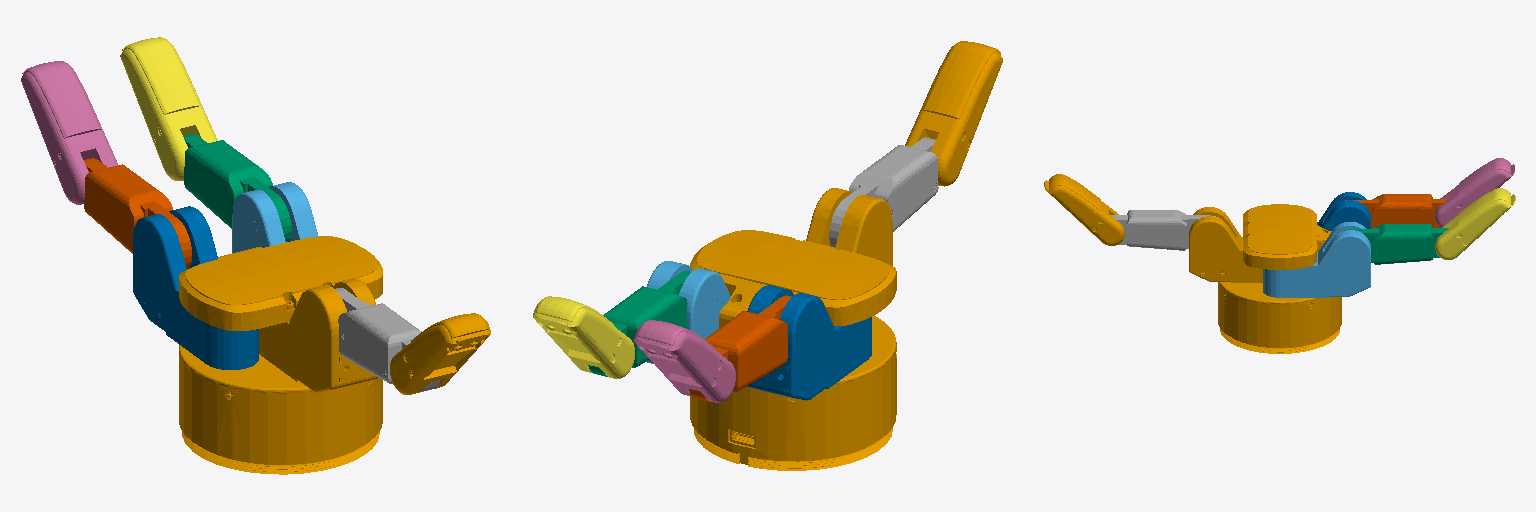
The robot description file, URDF, robot "bhand_model":
<robot name="bhand_model">
  <link name="base_link">
    <inertial>
      <origin xyz="-1.53444878605399E-05 -0.00277693660903533 0.0352882290973172" rpy="0 0 0"/>
      <mass value="0.377966381303299"/>
      <inertia ixx="0.000427326373018601" ixy="2.6443337984506E-07" ixz="-2.02908063714989E-07" iyy="0.000361316175967098" iyz="-3.0792687327603E-05" izz="0.000376798128588446"/>
    </inertial>
    <visual>
      <origin xyz="0 0 0" rpy="0 0 0"/>
      <geometry>
        <mesh filename="meshes/visual/base_link.obj"/>
      </geometry>
    </visual>
    <collision> <!-- base_cylinder -->
      <origin xyz="0 0 0" rpy="0 0 0"/>
      <geometry>
        <mesh filename="meshes/collision/base_link_cylinder.obj"/>
      </geometry>
    </collision>
    <collision> <!-- base_link -->
      <origin xyz="0 -0.011 0.054" rpy="0 0 0"/>
      <geometry>
        <box size="0.026 0.108 0.026"/>
      </geometry>
    </collision>
    <collision>
      <origin xyz="0 0 0.072" rpy="0 0 0"/>
      <geometry>
        <box size="0.076 0.046 0.014"/>
      </geometry>
    </collision>
    <collision>
      <origin xyz="0 0.032 0.068" rpy="-0.39 0 0"/>
      <geometry>
        <box size="0.026 0.02 0.01"/>
      </geometry>
    </collision>
    <collision>
      <origin xyz="0 -0.035 0.07" rpy="-1.03 0 0"/>
      <geometry>
        <box size="0.026 0.02 0.01"/>
      </geometry>
    </collision>
  </link>
  <link name="finger_1_prox_link">
    <inertial>
      <origin xyz="-0.288648917008988 9.98379746692153E-04 0.171253477569802" rpy="0 0 0"/>
      <mass value="56143.0626955765E-5"/>
      <inertia ixx="10.4484040652085E-5" ixy="-0.117861448219975E-5" ixz="-5.31613760585343E-5" iyy="33.9552353012776E-5" iyz="0.0780041192837706E-5" izz="29.3669090518615E-5"/>
    </inertial>
    <visual>
      <origin xyz="0 0 0" rpy="0 0 0"/>
      <geometry>
        <mesh filename="meshes/visual/prox_link.obj"/>
      </geometry>
    </visual>
    <collision>   <!-- finger1_prox_link -->
      <origin xyz="0 0 0" rpy="0 0 0"/>
      <geometry>
        <mesh filename="meshes/collision/prox_link_cylinder.obj"/>
      </geometry>
    </collision>
    <collision>
      <origin xyz="-0.029 0 0.012" rpy="0 0 0"/>
      <geometry>
        <box size="0.07 0.024 0.026"/>
      </geometry>
    </collision>
    <collision>
      <origin xyz="-0.036 0 0.03" rpy="0 1.029 0"/>
      <geometry>
        <box size="0.02 0.026 0.01"/>
      </geometry>
    </collision>
  </link>
  <joint name="finger_1_prox_joint" type="revolute">
    <origin xyz="0.025 0 0.0415" rpy="0 2.7051E-17 -1.5708"/>
    <parent link="base_link"/>
    <child link="finger_1_prox_link"/>
    <axis xyz="0 0 1"/>
    <limit lower="-3.14" upper="0" effort="0" velocity="10"/>
  </joint>
  <link name="finger_1_med_liink">
    <inertial>
      <origin xyz="-0.030918176135544 0.0019693024932544 0.000743369842666108" rpy="0 0 0"/>
      <mass value="31321.1214212939E-5"/>
      <inertia ixx="2.18512832127284E-5" ixy="-0.844484268309696E-5" ixz="0.0135401272401385E-5" iyy="17.3596441998536E-5" iyz="-0.001126692167519E-5" izz="17.7656644395659E-5"/>
    </inertial>
    <visual>
      <origin xyz="0 0 0" rpy="0 0 0"/>
      <geometry>
        <mesh filename="meshes/visual/med_link.obj"/>
      </geometry>
    </visual>
    <collision> <!-- finger1_med_link -->
      <origin xyz="-0.04 0.003 0.001" rpy="0 0 0"/>
      <geometry>
        <box size="0.036 0.024 0.018"/>
      </geometry>
    </collision>
    <collision>
      <origin xyz="-0.006 0.001 0.001" rpy="0 0 0"/>
      <geometry>
        <box size="0.032 0.022 0.01"/>
      </geometry>
    </collision>
    <collision>
      <origin xyz="-0.068 0.003 0.001" rpy="0 0 0"/>
      <geometry>
        <box size="0.02 0.022 0.01"/>
      </geometry>
    </collision>
    <collision>
      <origin xyz="-0.019 0.001 0.001" rpy="0 0 0"/>
      <geometry>
        <box size="0.008 0.022 0.018"/>
      </geometry>
    </collision>
  </link>
  <joint name="finger_1_med_joint" type="revolute">
    <origin xyz="-0.05 0 0.0339" rpy="1.5708 -8.8281E-17 0"/>
    <parent link="finger_1_prox_link"/>
    <child link="finger_1_med_liink"/>
    <axis xyz="0 0 1"/>
    <limit lower="-2.44" upper="0" effort="0" velocity="10"/>
  </joint>
  <link name="finger_1_dist_link">
    <inertial>
      <origin xyz="-0.018331495851456 0.017563370050582 0.000497127783315291" rpy="0 0 0"/>
      <mass value="19342.3312257343E-5"/>
      <inertia ixx="3.67466110522623E-5" ixy="-2.57800680786605E-5" ixz="-0.0345727635031181E-5" iyy="4.08727012680705E-5" iyz="0.0329223427372985E-5" izz="5.99395386650428E-5"/>
    </inertial>
    <visual>
      <origin xyz="0 0 0" rpy="0 0 0"/>
      <geometry>
        <mesh filename="meshes/visual/dist_link.obj"/>
      </geometry>
    </visual>
    <collision> <!-- finger1_disk_link -->
      <origin xyz="-0.022 0.023 0" rpy="0 0 0.8988"/>
      <geometry>
        <box size="0.014 0.038 0.02"/>
      </geometry>
    </collision>
    <collision>
      <origin xyz="-0.002 0.002 0" rpy="0 0 0.7766"/>
      <geometry>
        <box size="0.018 0.022 0.02"/>
      </geometry>
    </collision>
    <collision>
      <origin xyz="-0.038 0.034 0" rpy="0 0 1.614"/>
      <geometry>
        <box size="0.012 0.012 0.02"/>
      </geometry>
    </collision>
  </link>
  <joint name="finger_1_dist_joint" type="revolute">
    <origin xyz="-0.069936 0.003 0" rpy="1.6787E-18 -3.6382E-15 -6.1073E-33"/>
    <parent link="finger_1_med_liink"/>
    <child link="finger_1_dist_link"/>
    <axis xyz="0 0 1"/>
    <limit lower="-0.785" upper="0" effort="0" velocity="10"/>
  </joint>
  <link name="finger_2_prox_link">
    <inertial>
      <origin xyz="-0.288648917008987 9.98379746692118E-04 0.171253477569802" rpy="0 0 0"/>
      <mass value="56143.0626955765E-5"/>
      <inertia ixx="10.4484040652085E-5" ixy="-0.117861448219975E-5" ixz="-5.31613760585343E-5" iyy="33.9552353012776E-5" iyz="0.0780041192837701E-5" izz="29.3669090518615E-5"/>
    </inertial>
    <visual>
      <origin xyz="0 0 0" rpy="0 0 0"/>
      <geometry>
        <mesh filename="meshes/visual/prox_link.obj"/>
      </geometry>
    </visual>
    <collision>   <!-- finger2_prox_link -->
      <origin xyz="0 0 0" rpy="0 0 0"/>
      <geometry>
        <mesh filename="meshes/collision/prox_link_cylinder.obj"/>
      </geometry>
    </collision>
    <collision>
      <origin xyz="-0.029 0 0.012" rpy="0 0 0"/>
      <geometry>
        <box size="0.07 0.024 0.026"/>
      </geometry>
    </collision>
    <collision>
      <origin xyz="-0.036 0 0.03" rpy="0 1.029 0"/>
      <geometry>
        <box size="0.02 0.026 0.01"/>
      </geometry>
    </collision>
  </link>
  <joint name="finger_2_prox_joint" type="revolute">
    <origin xyz="-0.025 0 0.0415" rpy="0 2.7051E-17 -1.5708"/>
    <parent link="base_link"/>
    <child link="finger_2_prox_link"/>
    <axis xyz="0 0 1"/>
    <limit lower="0" upper="3.14" effort="0" velocity="10"/>
  </joint>
  <link name="finger_2_med_link">
    <inertial>
      <origin xyz="-0.0309061378225848 0.00214997948654991 0.000743369814045599" rpy="0 0 0"/>
      <mass value="31321.1215499126E-5"/>
      <inertia ixx="2.19551825824831E-5" ixy="-0.933117181988174E-5" ixz="0.0135333166873642E-5" iyy="17.3492542935561E-5" iyz="-0.00120585854514789E-5" izz="17.7656644132238E-5"/>
    </inertial>
    <visual>
      <origin xyz="0 0 0" rpy="0 0 0"/>
      <geometry>
        <mesh filename="meshes/visual/med_link.obj"/>
      </geometry>
    </visual>
    <collision> <!-- finger2_med_link -->
      <origin xyz="-0.04 0.003 0.001" rpy="0 0 0"/>
      <geometry>
        <box size="0.036 0.024 0.018"/>
      </geometry>
    </collision>
    <collision>
      <origin xyz="-0.006 0.001 0.001" rpy="0 0 0"/>
      <geometry>
        <box size="0.032 0.022 0.01"/>
      </geometry>
    </collision>
    <collision>
      <origin xyz="-0.068 0.003 0.001" rpy="0 0 0"/>
      <geometry>
        <box size="0.02 0.022 0.01"/>
      </geometry>
    </collision>
    <collision>
      <origin xyz="-0.019 0.001 0.001" rpy="0 0 0"/>
      <geometry>
        <box size="0.008 0.022 0.018"/>
      </geometry>
    </collision>
  </link>
  <joint name="finger_2_med_joint" type="revolute">
    <origin xyz="-0.05 0 0.0339" rpy="1.5708 -8.8281E-17 0"/>
    <parent link="finger_2_prox_link"/>
    <child link="finger_2_med_link"/>
    <axis xyz="0 0 1"/>
    <limit lower="-2.44" upper="0" effort="0" velocity="10"/>
  </joint>
  <link name="finger_2_dist_link">
    <inertial>
      <origin xyz="-0.0181940669984822 0.017705695005231 0.000497127783261171" rpy="0 0 0"/>
      <mass value="19342.3313295693E-5"/>
      <inertia ixx="3.71486604025429E-5" ixy="-2.58090906930852E-5" ixz="-0.0343151446338957E-5" iyy="4.04706522522361E-5" iyz="0.0331907761165059E-5" izz="5.99395390717116E-5"/>
    </inertial>
    <visual>
      <origin xyz="0 0 0" rpy="0 0 0"/>
      <geometry>
        <mesh filename="meshes/visual/dist_link.obj"/>
      </geometry>
    </visual>
    <collision> <!-- finger2_disk_link -->
      <origin xyz="-0.022 0.023 0" rpy="0 0 0.8988"/>
      <geometry>
        <box size="0.014 0.038 0.02"/>
      </geometry>
    </collision>
    <collision>
      <origin xyz="-0.002 0.002 0" rpy="0 0 0.7766"/>
      <geometry>
        <box size="0.018 0.022 0.02"/>
      </geometry>
    </collision>
    <collision>
      <origin xyz="-0.038 0.034 0" rpy="0 0 1.614"/>
      <geometry>
        <box size="0.012 0.012 0.02"/>
      </geometry>
    </collision>
  </link>
  <joint name="finger_2_dist_joint" type="revolute">
    <origin xyz="-0.069917 0.0034087 0" rpy="-3.1382E-17 -2.3229E-16 0"/>
    <parent link="finger_2_med_link"/>
    <child link="finger_2_dist_link"/>
    <axis xyz="0 0 1"/>
    <limit lower="-0.785" upper="0" effort="0" velocity="10"/>
  </joint>
  <link name="finger_3_med_link">
    <inertial>
      <origin xyz="-0.0309181761355441 0.00196930249325443 0.000743369842666415" rpy="0 0 0"/>
      <mass value="31321.121421294E-5"/>
      <inertia ixx="2.18512832127284E-5" ixy="-0.844484268309696E-5" ixz="0.0135401272400822E-5" iyy="17.3596441998537E-5" iyz="-0.0011266921675151E-5" izz="17.7656644395659E-5"/>
    </inertial>
    <visual>
      <origin xyz="0 0 0" rpy="0 0 0"/>
      <geometry>
        <mesh filename="meshes/visual/med_link.obj"/>
      </geometry>
    </visual>
    <collision> <!-- finger3_med_link -->
      <origin xyz="-0.04 0.003 0.001" rpy="0 0 0"/>
      <geometry>
        <box size="0.036 0.024 0.018"/>
      </geometry>
    </collision>
    <collision>
      <origin xyz="-0.006 0.001 0.001" rpy="0 0 0"/>
      <geometry>
        <box size="0.032 0.022 0.01"/>
      </geometry>
    </collision>
    <collision>
      <origin xyz="-0.068 0.003 0.001" rpy="0 0 0"/>
      <geometry>
        <box size="0.02 0.022 0.01"/>
      </geometry>
    </collision>
    <collision>
      <origin xyz="-0.019 0.001 0.001" rpy="0 0 0"/>
      <geometry>
        <box size="0.008 0.022 0.018"/>
      </geometry>
    </collision>
  </link>
  <joint name="finger_3_med_joint" type="revolute">
    <origin xyz="0 -0.05 0.0754" rpy="1.5708 6.123E-17 1.5708"/>
    <parent link="base_link"/>
    <child link="finger_3_med_link"/>
    <axis xyz="0 0 1"/>
    <limit lower="-2.44" upper="0" effort="0" velocity="10"/>
  </joint>
  <link name="finger_3_dist_link">
    <inertial>
      <origin xyz="-0.0183314958518909 0.0175633700501297 0.000497127783323787" rpy="0 0 0"/>
      <mass value="19342.3312257343E-5"/>
      <inertia ixx="3.67466110509902E-5" ixy="-2.57800680785588E-5" ixz="-0.0345727635040649E-5" iyy="4.08727012693427E-5" iyz="0.0329223427365976E-5" izz="5.99395386650428E-5"/>
    </inertial>
    <visual>
      <origin xyz="0 0 0" rpy="0 0 0"/>
      <geometry>
        <mesh filename="meshes/visual/dist_link.obj"/>
      </geometry>
    </visual>
    <collision> <!-- finger3_disk_link -->
      <origin xyz="-0.022 0.023 0" rpy="0 0 0.8988"/>
      <geometry>
        <box size="0.014 0.038 0.02"/>
      </geometry>
    </collision>
    <collision>
      <origin xyz="-0.002 0.002 0" rpy="0 0 0.7766"/>
      <geometry>
        <box size="0.018 0.022 0.02"/>
      </geometry>
    </collision>
    <collision>
      <origin xyz="-0.038 0.034 0" rpy="0 0 1.614"/>
      <geometry>
        <box size="0.012 0.012 0.02"/>
      </geometry>
    </collision>
  </link>
  <joint name="finger_3_dist_joint" type="revolute">
    <origin xyz="-0.069936 0.003 0" rpy="6.0427E-17 -6.7283E-18 -4.0657E-34"/>
    <parent link="finger_3_med_link"/>
    <child link="finger_3_dist_link"/>
    <axis xyz="0 0 1"/>
    <limit lower="-0.785" upper="0" effort="0" velocity="10"/>
  </joint>
</robot>

--- What the picture shows (computed from the rendered views, not written in the file) ---
Views: 3 orthographic renders of the robot side by side, from view 1: azimuth 30°, elevation 25°; view 2: azimuth 150°, elevation 25°; view 3: azimuth 270°, elevation 25°.
Model bhand_model with 9 links and 8 joints (8 revolute), rooted at base_link, posed all joints at 0.
Links seen in each view (by area): view 1: base_link, finger_2_prox_link, finger_2_dist_link, finger_1_dist_link, finger_2_med_link, finger_1_med_liink, finger_3_dist_link, finger_3_med_link, finger_1_prox_link; view 2: base_link, finger_2_prox_link, finger_3_dist_link, finger_3_med_link, finger_1_dist_link, finger_2_dist_link, finger_2_med_link, finger_1_med_liink, finger_1_prox_link; view 3: base_link, finger_1_prox_link, finger_3_med_link, finger_1_med_liink, finger_1_dist_link, finger_3_dist_link, finger_2_dist_link, finger_2_med_link, finger_2_prox_link.
Boxes of the visible links, bbox=[...] form: base_link: bbox=[179, 236, 382, 474]; finger_2_prox_link: bbox=[133, 206, 258, 369]; finger_2_dist_link: bbox=[21, 61, 117, 204]; finger_1_dist_link: bbox=[120, 37, 217, 180]; finger_2_med_link: bbox=[84, 158, 191, 268]; finger_1_med_liink: bbox=[183, 134, 291, 241]; finger_3_dist_link: bbox=[390, 313, 490, 394]; finger_3_med_link: bbox=[335, 288, 439, 391]; finger_1_prox_link: bbox=[232, 182, 317, 252]; base_link: bbox=[690, 188, 896, 470]; finger_2_prox_link: bbox=[747, 285, 871, 400]; finger_3_dist_link: bbox=[905, 41, 1002, 186]; finger_3_med_link: bbox=[829, 137, 938, 247]; finger_1_dist_link: bbox=[533, 296, 634, 378]; finger_2_dist_link: bbox=[633, 320, 735, 402]; finger_2_med_link: bbox=[689, 295, 791, 401]; finger_1_med_liink: bbox=[588, 271, 690, 376]; finger_1_prox_link: bbox=[646, 261, 730, 363]; base_link: bbox=[1189, 204, 1341, 353]; finger_1_prox_link: bbox=[1263, 222, 1370, 297]; finger_3_med_link: bbox=[1111, 210, 1218, 250]; finger_1_med_liink: bbox=[1341, 224, 1448, 264]; finger_1_dist_link: bbox=[1435, 188, 1515, 259]; finger_3_dist_link: bbox=[1044, 174, 1124, 245]; finger_2_dist_link: bbox=[1435, 158, 1514, 227]; finger_2_med_link: bbox=[1342, 194, 1447, 228]; finger_2_prox_link: bbox=[1317, 192, 1370, 230].
Bounding box of the posed robot: 0.089 × 0.3353 × 0.1191 m (x, y, z).
Meshes: 4 distinct files referenced, 9 mesh visuals loaded (4 OBJ).
